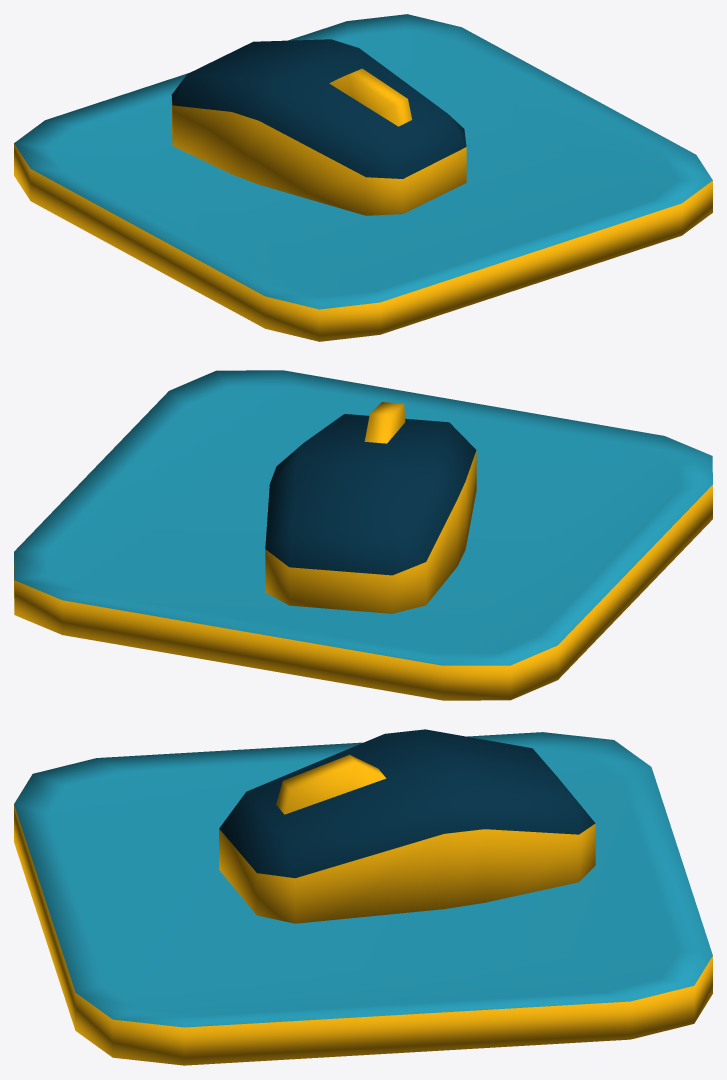
Rendered from Mouse.FBX.
3 renders of one model, top to bottom at view 1: azimuth 30°, elevation 25°; view 2: azimuth 150°, elevation 25°; view 3: azimuth 270°, elevation 25°, orthographic. The views are drawn at different scales.
Parts seen in each view (by area): view 1: Mouse; view 2: Mouse; view 3: Mouse.
Part boxes in pixels (left/top/right/bottom): Mouse: left=14, top=14, right=712, bottom=341; Mouse: left=14, top=370, right=712, bottom=700; Mouse: left=14, top=729, right=712, bottom=1065.
Bounding box in the file's own units: 0.2817 × 0.0672 × 0.2817.
